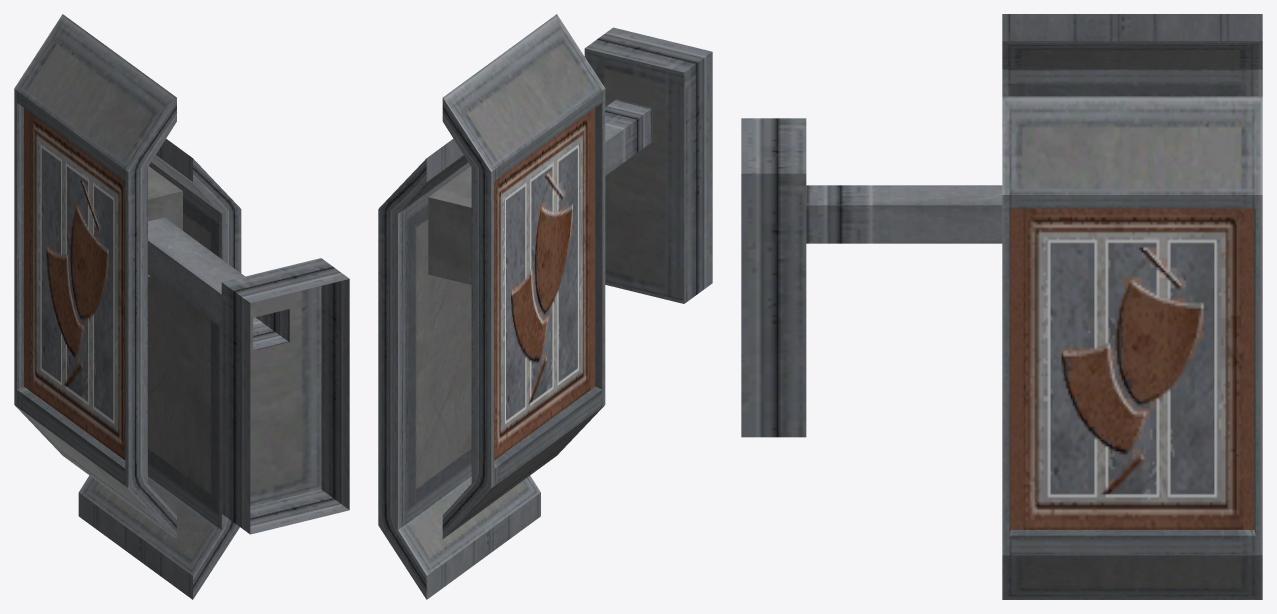
Rendered from thm_sign_all_hanging_l0.fbx.
3 renders of one model, left to right at view 1: azimuth 30°, elevation 25°; view 2: azimuth 150°, elevation 25°; view 3: azimuth 270°, elevation 25°, orthographic. The views are drawn at different scales.
Parts seen in each view (by area): view 1: mesh_node; view 2: mesh_node; view 3: mesh_node.
Part boxes in pixels (left/top/right/bottom): mesh_node: left=14, top=14, right=349, bottom=599; mesh_node: left=378, top=14, right=712, bottom=599; mesh_node: left=741, top=14, right=1262, bottom=599.
Bounding box in the file's own units: 0.346 × 1.48 × 1.21.
2 materials, 2 textured.
